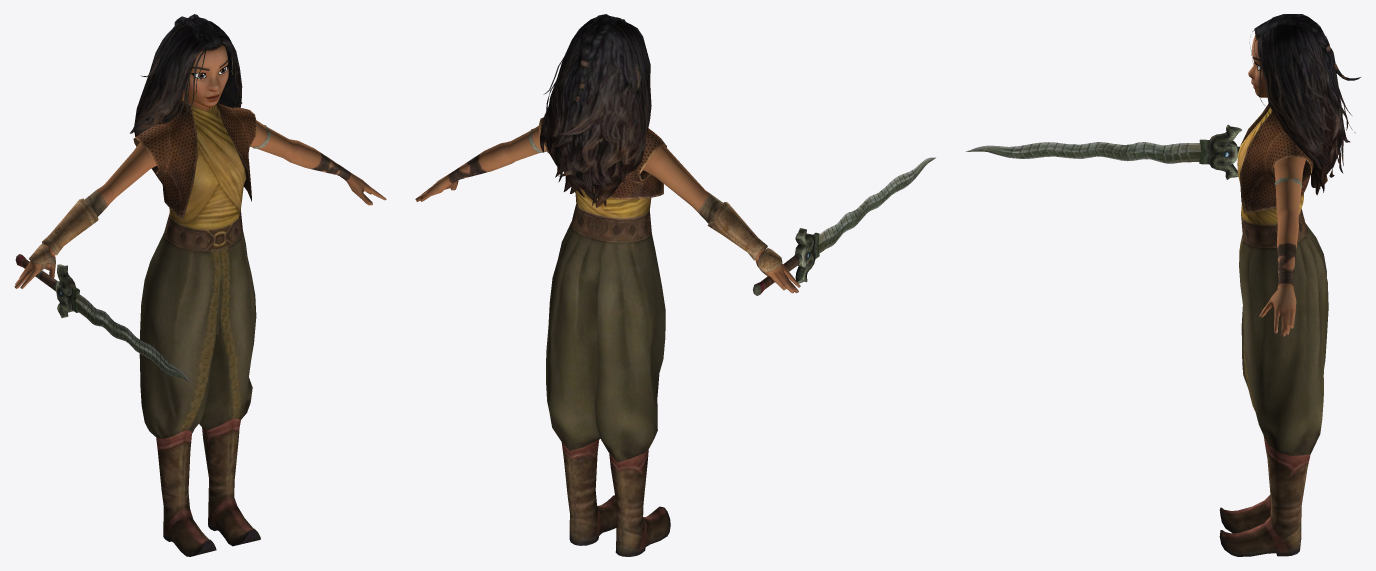
File: raya.obj
The picture shows the model from 3 angles, left to right: view 1: azimuth 30°, elevation 25°; view 2: azimuth 150°, elevation 25°; view 3: azimuth 270°, elevation 25°; orthographic projection. The views are drawn at different scales.
Parts seen in each view (by area): view 1: obj1, obj3; view 2: obj1, obj3; view 3: obj1, obj3.
Part boxes in pixels (bbox=[...]): obj1: bbox=[14, 14, 386, 556]; obj3: bbox=[15, 254, 192, 385]; obj1: bbox=[415, 14, 800, 556]; obj3: bbox=[753, 157, 935, 295]; obj1: bbox=[1219, 14, 1360, 556]; obj3: bbox=[966, 124, 1241, 179].
Size of the model in its own units: 13.35 by 17.64 by 12.13.
Materials: 1 (1 with a texture image).
